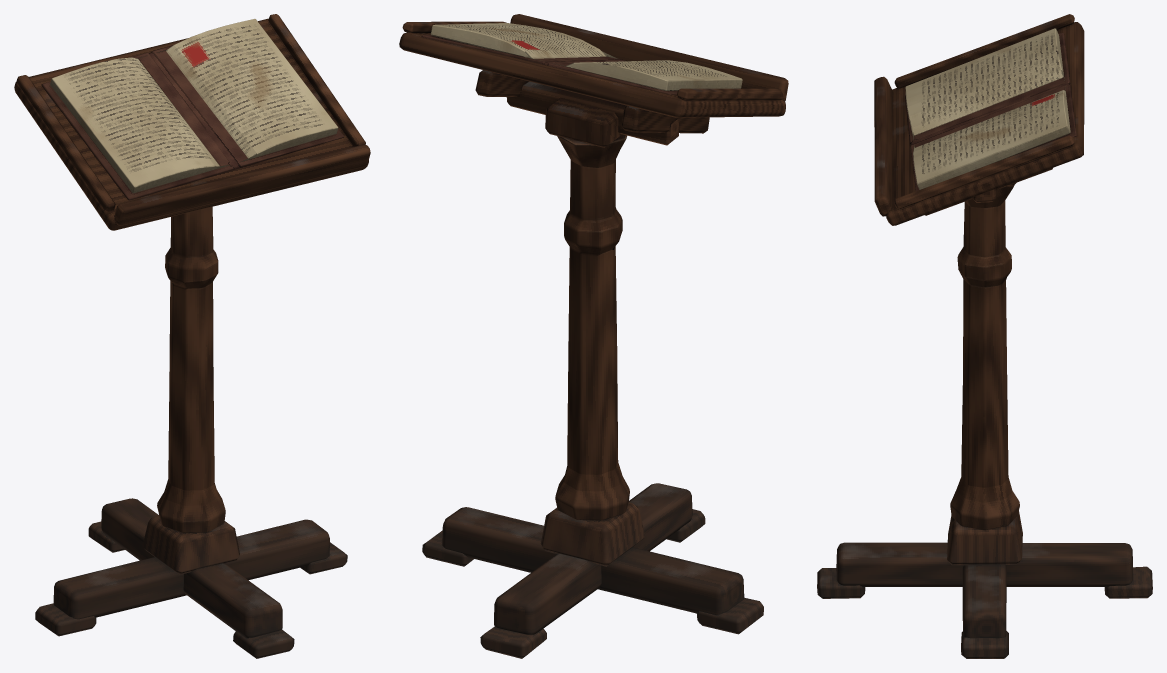
Rendered from lectern.glb.
The picture shows the model from 3 angles, left to right: view 1: azimuth 30°, elevation 25°; view 2: azimuth 150°, elevation 25°; view 3: azimuth 270°, elevation 25°; orthographic projection. The views are drawn at different scales.
Visible parts, largest first — view 1: Lectern; view 2: Lectern; view 3: Lectern.
Boxes of the visible parts, x1=… form: Lectern: x1=14, y1=14, x2=370, y2=658; Lectern: x1=399, y1=14, x2=788, y2=658; Lectern: x1=817, y1=14, x2=1152, y2=658.
Size of the model in its own units: 0.7015 by 1.19 by 0.7012.
Materials: 1 (1 with a texture image).
